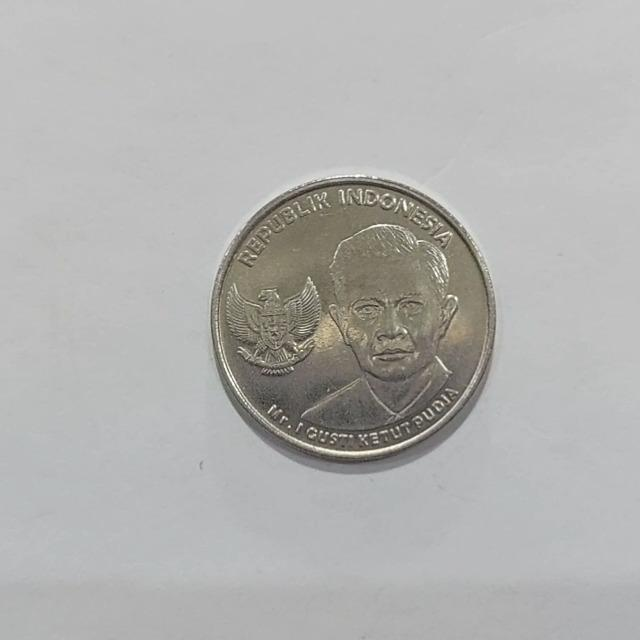Rp100: (210, 173, 497, 464), (293, 220, 463, 438), (221, 274, 323, 376)
